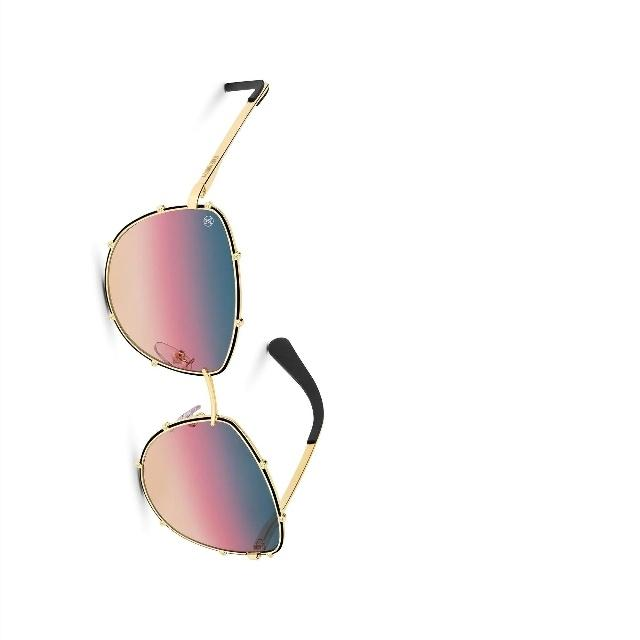Sunglasses: (77, 61, 395, 573)
